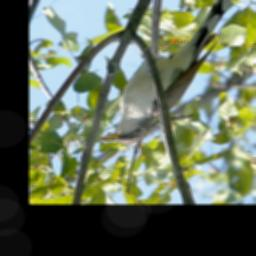Cuckoo: (97, 0, 243, 145)
